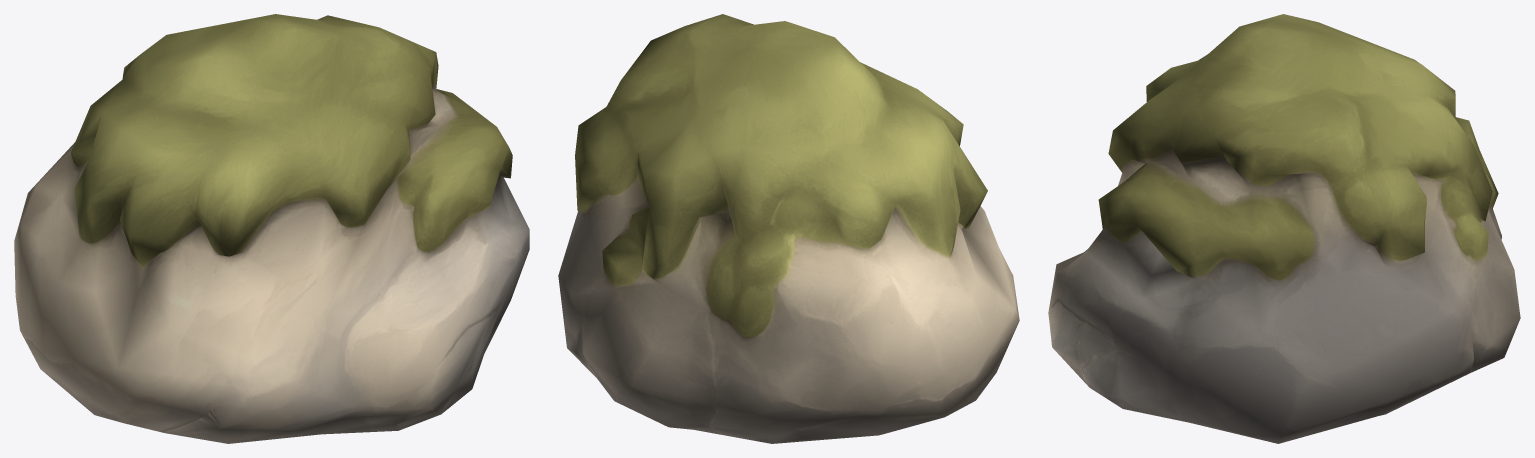
File: boulder_mossy.glb
The picture shows the model from 3 angles, left to right: view 1: azimuth 30°, elevation 25°; view 2: azimuth 150°, elevation 25°; view 3: azimuth 270°, elevation 25°; orthographic projection. The views are drawn at different scales.
Parts seen in each view (by area): view 1: geometry_0.001; view 2: geometry_0.001; view 3: geometry_0.001.
Boxes of the visible parts, box(x1,y1,x2,y2) form: geometry_0.001: box(14, 14, 529, 443); geometry_0.001: box(558, 14, 1019, 443); geometry_0.001: box(1048, 14, 1520, 443).
Bounding box in the file's own units: 1.99 × 1.55 × 1.99.
Materials: 1 (1 with a texture image).
